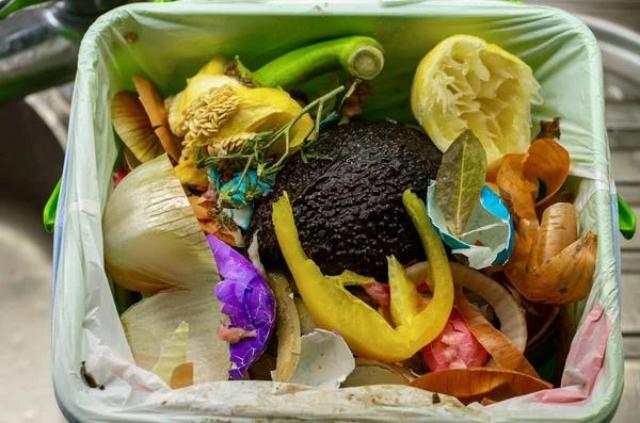Garbage: (109, 33, 596, 403)
Plastic: (206, 235, 276, 379)
contaminated_waste: (206, 235, 275, 379)
